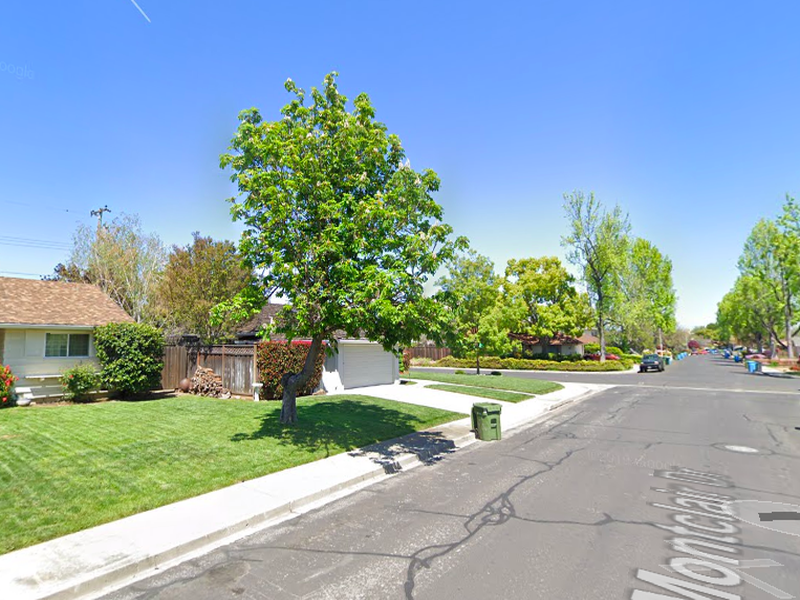tree: (207, 69, 471, 432)
